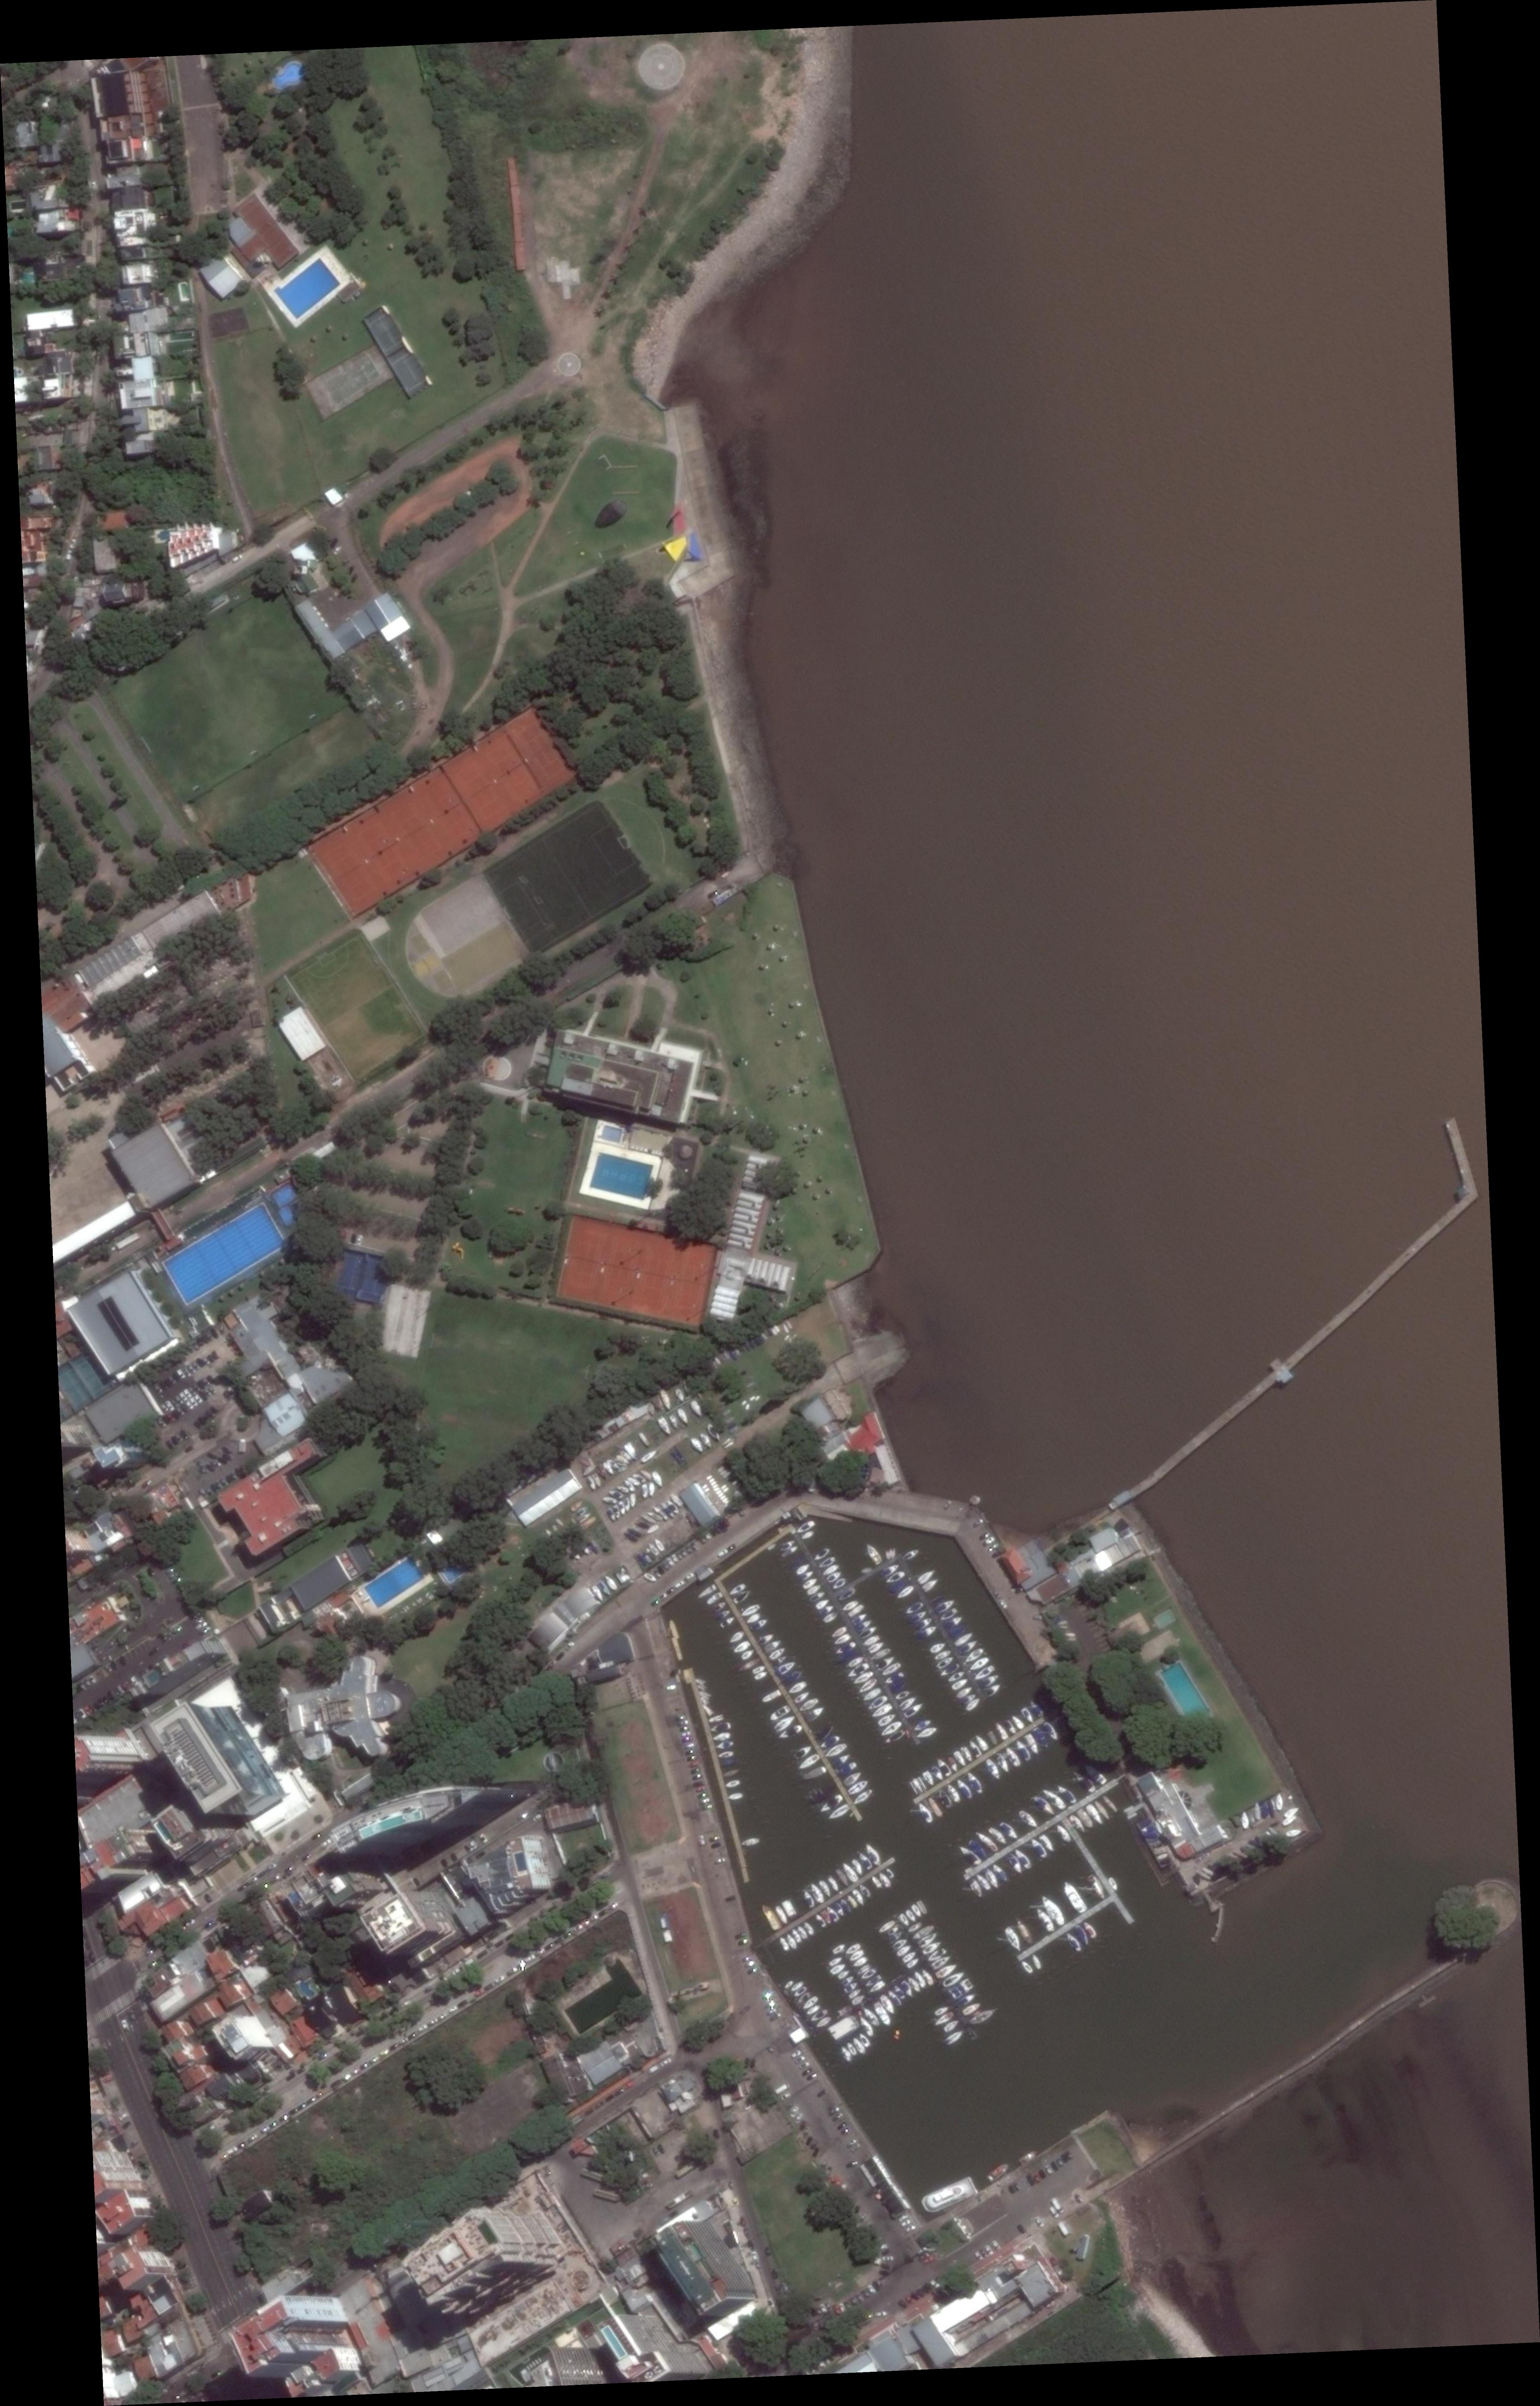harbor: (1060, 1129, 1484, 1516), (714, 1577, 863, 1821), (791, 1528, 921, 1745), (969, 1778, 1120, 1876), (895, 1553, 988, 1701), (687, 1667, 750, 1883), (753, 1857, 895, 1952), (913, 1712, 1051, 1804), (1060, 1816, 1135, 1924), (1017, 1895, 1114, 1962), (925, 1963, 978, 2040), (893, 1915, 929, 1966), (841, 1953, 872, 2003)
ship: (919, 2174, 980, 2217), (1059, 1877, 1089, 1915), (1037, 1892, 1067, 1929), (760, 1900, 783, 1933), (1040, 1785, 1068, 1813), (968, 2004, 998, 2028), (1071, 1768, 1098, 1795), (1084, 1872, 1108, 1903), (973, 1829, 1000, 1855), (1034, 1905, 1057, 1935), (957, 1842, 984, 1868), (1083, 1761, 1109, 1787), (1002, 1924, 1024, 1954), (818, 1791, 845, 1816), (1013, 1916, 1035, 1946), (772, 1711, 799, 1735), (1030, 1795, 1057, 1818), (872, 1999, 894, 2028), (862, 1840, 884, 1869), (1004, 1851, 1027, 1877), (984, 2161, 1011, 2184), (1055, 1782, 1079, 1806), (845, 1659, 872, 1681), (1001, 1744, 1023, 1770), (964, 1769, 985, 1796), (1013, 1846, 1035, 1872), (911, 1920, 936, 1943), (879, 1718, 904, 1739), (941, 1968, 966, 1990), (1030, 1725, 1051, 1751), (1013, 1737, 1034, 1763), (1028, 1837, 1050, 1862), (777, 1722, 804, 1743), (990, 1861, 1011, 1887), (953, 1777, 976, 1801), (933, 1960, 958, 1981), (883, 1725, 909, 1747), (981, 1866, 1002, 1892), (997, 1820, 1021, 1842), (797, 1752, 822, 1773), (983, 1756, 1004, 1782), (1016, 1807, 1039, 1830), (962, 1645, 986, 1667), (941, 1611, 965, 1633), (802, 1703, 826, 1725), (915, 1930, 940, 1951), (840, 1859, 860, 1885), (864, 1541, 884, 1567), (856, 1675, 880, 1697), (1071, 1923, 1091, 1949), (861, 2005, 882, 2029), (1084, 1802, 1105, 1827), (801, 1764, 828, 1783), (847, 1776, 870, 1798), (902, 1699, 926, 1720), (1036, 1831, 1057, 1855), (1081, 1918, 1101, 1943), (877, 1991, 897, 2016), (780, 1666, 805, 1687), (824, 1741, 849, 1760), (905, 1607, 929, 1627), (972, 1663, 997, 1683), (1022, 1732, 1042, 1757), (874, 1651, 897, 1673), (992, 1750, 1012, 1775), (737, 1656, 762, 1675), (1063, 1930, 1084, 1954), (1041, 1720, 1061, 1744), (768, 1703, 793, 1723), (976, 1671, 1001, 1690), (1075, 1807, 1095, 1831), (870, 1701, 895, 1720), (987, 1825, 1010, 1847), (860, 1685, 883, 1705), (828, 1802, 852, 1822), (858, 2013, 876, 2039), (936, 1787, 955, 1812), (842, 1768, 864, 1789), (1092, 1798, 1113, 1822), (934, 1756, 954, 1779), (850, 1669, 876, 1687), (967, 1655, 991, 1674), (865, 1693, 889, 1712), (809, 1880, 826, 1906), (883, 1567, 907, 1586), (836, 1759, 858, 1780), (919, 1938, 942, 1958), (933, 2009, 957, 2029), (933, 1596, 957, 1616), (814, 1722, 836, 1744), (780, 1898, 799, 1923), (1053, 1822, 1073, 1845), (925, 1946, 949, 1965), (791, 1743, 814, 1762), (929, 1952, 952, 1971), (875, 1710, 899, 1729), (944, 1781, 962, 1806), (879, 1561, 902, 1579), (916, 1801, 935, 1825), (916, 1565, 938, 1586), (937, 1661, 961, 1680), (915, 1622, 939, 1641), (798, 1695, 821, 1714), (943, 2027, 965, 2048), (974, 1871, 994, 1893), (967, 1876, 985, 1900), (704, 1421, 723, 1444), (880, 1659, 903, 1678), (980, 1681, 1003, 1699), (850, 2034, 869, 2057), (897, 1693, 919, 1713), (953, 1629, 974, 1649), (833, 1639, 857, 1657), (958, 1636, 980, 1656), (1068, 1812, 1088, 1834), (852, 1788, 874, 1807), (856, 1849, 874, 1872), (914, 1724, 939, 1741), (831, 1751, 852, 1771), (786, 1679, 809, 1697), (766, 1644, 787, 1664), (883, 1669, 907, 1687), (655, 1414, 674, 1436), (1027, 1698, 1046, 1719), (776, 1658, 797, 1677), (819, 1733, 841, 1751), (973, 1733, 991, 1755), (833, 1866, 851, 1888), (731, 1587, 752, 1606), (953, 1683, 975, 1702), (869, 1645, 893, 1662), (853, 1616, 874, 1635), (697, 1582, 718, 1601), (935, 1654, 956, 1672), (808, 2005, 829, 2024), (857, 1623, 879, 1641), (965, 1738, 983, 1760), (761, 1637, 782, 1655), (903, 1599, 925, 1617), (896, 1583, 916, 1602), (993, 1720, 1010, 1743), (688, 1397, 705, 1420), (898, 1978, 915, 2001), (748, 1616, 769, 1634), (761, 1688, 783, 1705), (905, 1974, 923, 1996), (1101, 1794, 1120, 1814), (911, 1717, 933, 1734), (912, 1615, 934, 1632), (837, 1586, 857, 1604), (731, 1639, 752, 1657), (886, 1988, 903, 2009), (727, 1580, 748, 1597), (795, 1519, 817, 1536), (911, 1970, 929, 1991), (658, 1387, 673, 1412), (801, 1994, 820, 2013), (838, 2043, 855, 2065), (801, 1888, 817, 1910), (774, 1903, 790, 1926), (848, 1856, 865, 1877), (727, 1628, 747, 1646), (920, 1576, 940, 1594), (945, 1668, 967, 1685), (825, 1872, 841, 1894), (950, 1675, 970, 1692), (834, 2003, 854, 2021), (844, 1655, 865, 1671), (740, 1602, 762, 1618), (939, 1606, 958, 1623), (867, 1979, 887, 1996), (920, 1967, 936, 1988), (565, 1544, 583, 1562), (1019, 1706, 1036, 1725), (957, 1991, 977, 2009), (865, 1639, 886, 1656), (928, 1639, 948, 1656), (780, 1544, 800, 1561), (929, 1763, 946, 1784), (961, 2000, 982, 2017), (832, 1631, 853, 1648), (825, 1903, 841, 1924), (659, 1500, 677, 1519), (830, 1623, 849, 1641), (812, 1546, 832, 1563), (579, 1514, 598, 1532), (814, 2014, 833, 2031), (1009, 1713, 1026, 1733), (828, 1961, 848, 1978), (850, 1887, 867, 1908), (959, 1744, 975, 1764), (964, 1695, 982, 1713), (840, 1598, 860, 1615), (640, 1448, 660, 1465), (689, 1435, 706, 1454), (602, 1573, 620, 1592), (894, 1942, 913, 1960), (877, 1918, 896, 1935), (864, 1973, 883, 1990), (1282, 1804, 1302, 1820), (817, 1555, 837, 1571), (861, 1633, 882, 1649), (793, 1561, 812, 1578), (817, 1878, 833, 1899), (651, 1468, 665, 1490), (952, 1749, 968, 1768), (877, 1870, 893, 1890), (821, 1562, 840, 1579), (676, 1406, 691, 1426), (847, 1602, 865, 1618), (942, 2018, 960, 2034), (856, 2030, 872, 2049), (1002, 1717, 1018, 1736), (921, 1768, 936, 1788), (886, 1929, 903, 1946), (596, 1579, 613, 1597), (959, 1691, 978, 1707), (808, 1588, 827, 1604), (848, 1948, 866, 1963), (714, 1738, 735, 1752), (757, 1632, 776, 1647), (891, 1935, 908, 1952), (805, 1581, 823, 1597), (892, 1984, 908, 2002), (744, 1611, 762, 1626), (901, 1547, 920, 1563), (793, 1689, 811, 1706), (779, 1537, 797, 1553), (652, 1506, 670, 1522), (706, 1591, 724, 1606), (825, 1569, 843, 1585), (710, 1721, 732, 1734), (801, 1575, 819, 1591), (831, 1576, 849, 1592), (822, 1609, 839, 1626), (668, 1492, 685, 1508), (851, 1611, 868, 1627), (739, 1647, 756, 1663), (784, 1931, 799, 1951), (933, 1648, 953, 1662), (839, 1897, 853, 1917), (900, 1949, 918, 1965), (905, 1920, 923, 1936), (859, 1967, 877, 1981), (857, 1882, 872, 1900), (740, 1835, 761, 1848), (590, 1584, 605, 1603), (851, 1955, 869, 1970), (665, 1499, 681, 1515), (850, 1992, 866, 2008), (915, 1898, 929, 1917), (845, 1941, 862, 1957), (814, 1596, 831, 1611), (714, 1608, 732, 1622), (845, 2040, 859, 2058), (805, 2002, 823, 2017), (946, 1755, 959, 1774), (839, 1974, 856, 1989), (903, 1907, 918, 1924), (1266, 1796, 1276, 1821), (699, 1430, 713, 1448), (818, 1603, 835, 1618), (843, 1979, 859, 1995), (904, 1955, 921, 1970), (711, 1600, 727, 1615), (792, 1984, 809, 1999), (1030, 1952, 1043, 1971), (1281, 1813, 1298, 1828), (1020, 1959, 1035, 1976), (802, 1920, 817, 1937), (910, 1902, 924, 1919), (778, 1934, 791, 1953), (673, 1386, 687, 1404), (831, 1941, 847, 1956), (820, 1908, 833, 1926), (719, 1615, 736, 1629), (575, 1510, 592, 1525), (847, 1986, 863, 2001), (712, 1731, 731, 1743), (605, 1457, 622, 1471), (846, 1893, 859, 1910), (790, 1927, 803, 1945), (581, 1463, 597, 1478), (637, 1431, 652, 1448), (894, 1689, 911, 1702), (647, 1541, 661, 1557), (870, 1874, 884, 1891), (773, 2082, 790, 2096), (639, 1514, 658, 1526), (722, 1767, 740, 1780), (934, 2004, 951, 2017), (800, 1568, 816, 1582), (827, 1955, 843, 1969), (1239, 1810, 1250, 1830), (569, 1499, 584, 1513), (790, 1979, 805, 1993), (833, 1901, 846, 1918), (800, 1528, 815, 1542), (653, 1537, 666, 1553), (814, 1913, 828, 1929), (796, 1924, 809, 1941), (543, 1527, 558, 1542), (1106, 1875, 1120, 1892), (856, 1963, 872, 1976), (897, 1912, 911, 1927), (668, 1413, 681, 1430), (602, 1461, 616, 1476), (615, 1453, 631, 1466), (727, 1791, 744, 1802), (618, 1448, 633, 1462), (575, 1505, 590, 1518), (607, 1489, 625, 1500), (588, 1539, 600, 1555), (623, 1532, 639, 1543), (646, 1511, 664, 1522), (753, 1670, 769, 1682), (626, 1527, 642, 1540), (623, 1478, 636, 1493), (724, 1778, 741, 1790), (639, 1468, 653, 1481), (708, 1713, 725, 1724), (836, 1968, 851, 1981), (645, 1547, 657, 1562), (1260, 1799, 1269, 1820), (1253, 1800, 1262, 1822), (643, 1571, 659, 1583), (751, 1664, 767, 1676), (631, 1472, 647, 1484), (716, 1750, 734, 1760), (586, 1475, 597, 1492), (626, 1476, 642, 1487), (886, 1925, 900, 1938), (580, 1541, 592, 1556), (592, 1473, 603, 1488), (646, 1524, 660, 1535), (554, 1517, 567, 1530), (641, 1551, 653, 1565), (607, 1507, 617, 1523), (702, 1704, 715, 1717), (1276, 1792, 1284, 1811), (1286, 1828, 1303, 1837), (601, 1496, 618, 1505), (637, 1555, 648, 1567), (885, 1866, 895, 1879), (616, 1485, 630, 1494), (699, 1690, 713, 1700), (648, 1481, 656, 1498), (618, 1500, 626, 1516), (700, 1696, 711, 1707), (784, 1979, 794, 1990), (613, 1504, 621, 1519), (551, 1524, 561, 1536), (728, 1426, 740, 1435), (726, 1422, 739, 1430), (696, 1684, 709, 1692), (722, 1408, 732, 1419), (729, 1349, 739, 1361), (635, 1522, 649, 1530), (724, 1416, 735, 1426), (695, 1678, 707, 1686), (723, 1442, 734, 1450), (642, 1483, 648, 1499), (624, 1497, 630, 1512), (722, 1351, 731, 1361), (785, 1319, 793, 1329), (630, 1493, 636, 1508), (720, 1469, 729, 1477), (721, 1438, 731, 1447), (714, 1356, 722, 1366), (717, 1465, 726, 1474), (782, 1324, 791, 1333), (757, 1336, 765, 1345), (753, 1337, 762, 1345), (761, 1332, 769, 1341), (744, 1343, 752, 1352), (723, 1472, 732, 1480), (740, 1399, 748, 1407), (773, 1325, 781, 1334), (712, 1361, 719, 1370), (748, 1395, 756, 1402), (771, 1328, 778, 1336), (735, 1348, 741, 1357), (767, 1328, 774, 1337), (783, 1335, 790, 1342), (740, 1346, 747, 1354), (701, 1483, 709, 1490), (720, 1484, 728, 1490), (706, 1475, 714, 1482), (731, 1480, 740, 1487), (745, 1403, 751, 1411), (718, 1493, 725, 1500), (704, 1487, 711, 1494), (755, 1394, 762, 1402), (715, 1490, 723, 1497), (708, 1477, 716, 1484), (750, 1339, 756, 1347), (723, 1487, 730, 1494), (710, 1481, 718, 1487), (720, 1495, 726, 1501), (723, 1498, 729, 1504), (714, 1487, 721, 1492), (724, 1500, 730, 1506), (713, 1485, 719, 1490), (725, 1503, 731, 1509)
